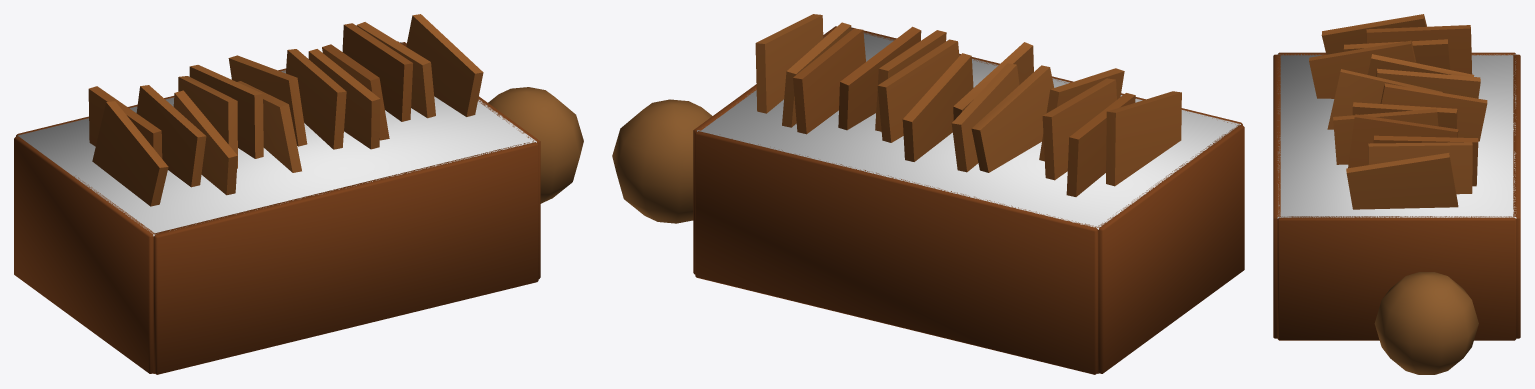
Rendered from caja_etiquetas.glb.
3 views of the same model, side by side, from view 1: azimuth 30°, elevation 25°; view 2: azimuth 150°, elevation 25°; view 3: azimuth 270°, elevation 25° (orthographic). The views are drawn at different scales.
Visible parts, largest first — view 1: caja, caja-colcaja; view 2: caja, caja-colcaja; view 3: caja, caja-colcaja.
Boxes of the visible parts, x1,y1,x2,y2 form: caja: (14,14,583,374); caja-colcaja: (18,42,536,373); caja: (612,14,1244,374); caja-colcaja: (697,29,1240,373); caja: (1273,14,1520,374); caja-colcaja: (1277,54,1516,218).
Size of the model in its own units: 0.3463 by 0.131 by 0.166.
